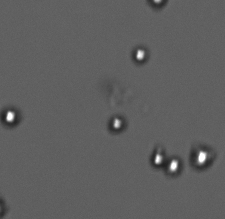Living Cell: (191, 146, 212, 170), (166, 156, 182, 177), (132, 47, 148, 63), (3, 109, 18, 125), (152, 150, 165, 168), (110, 116, 124, 131)
